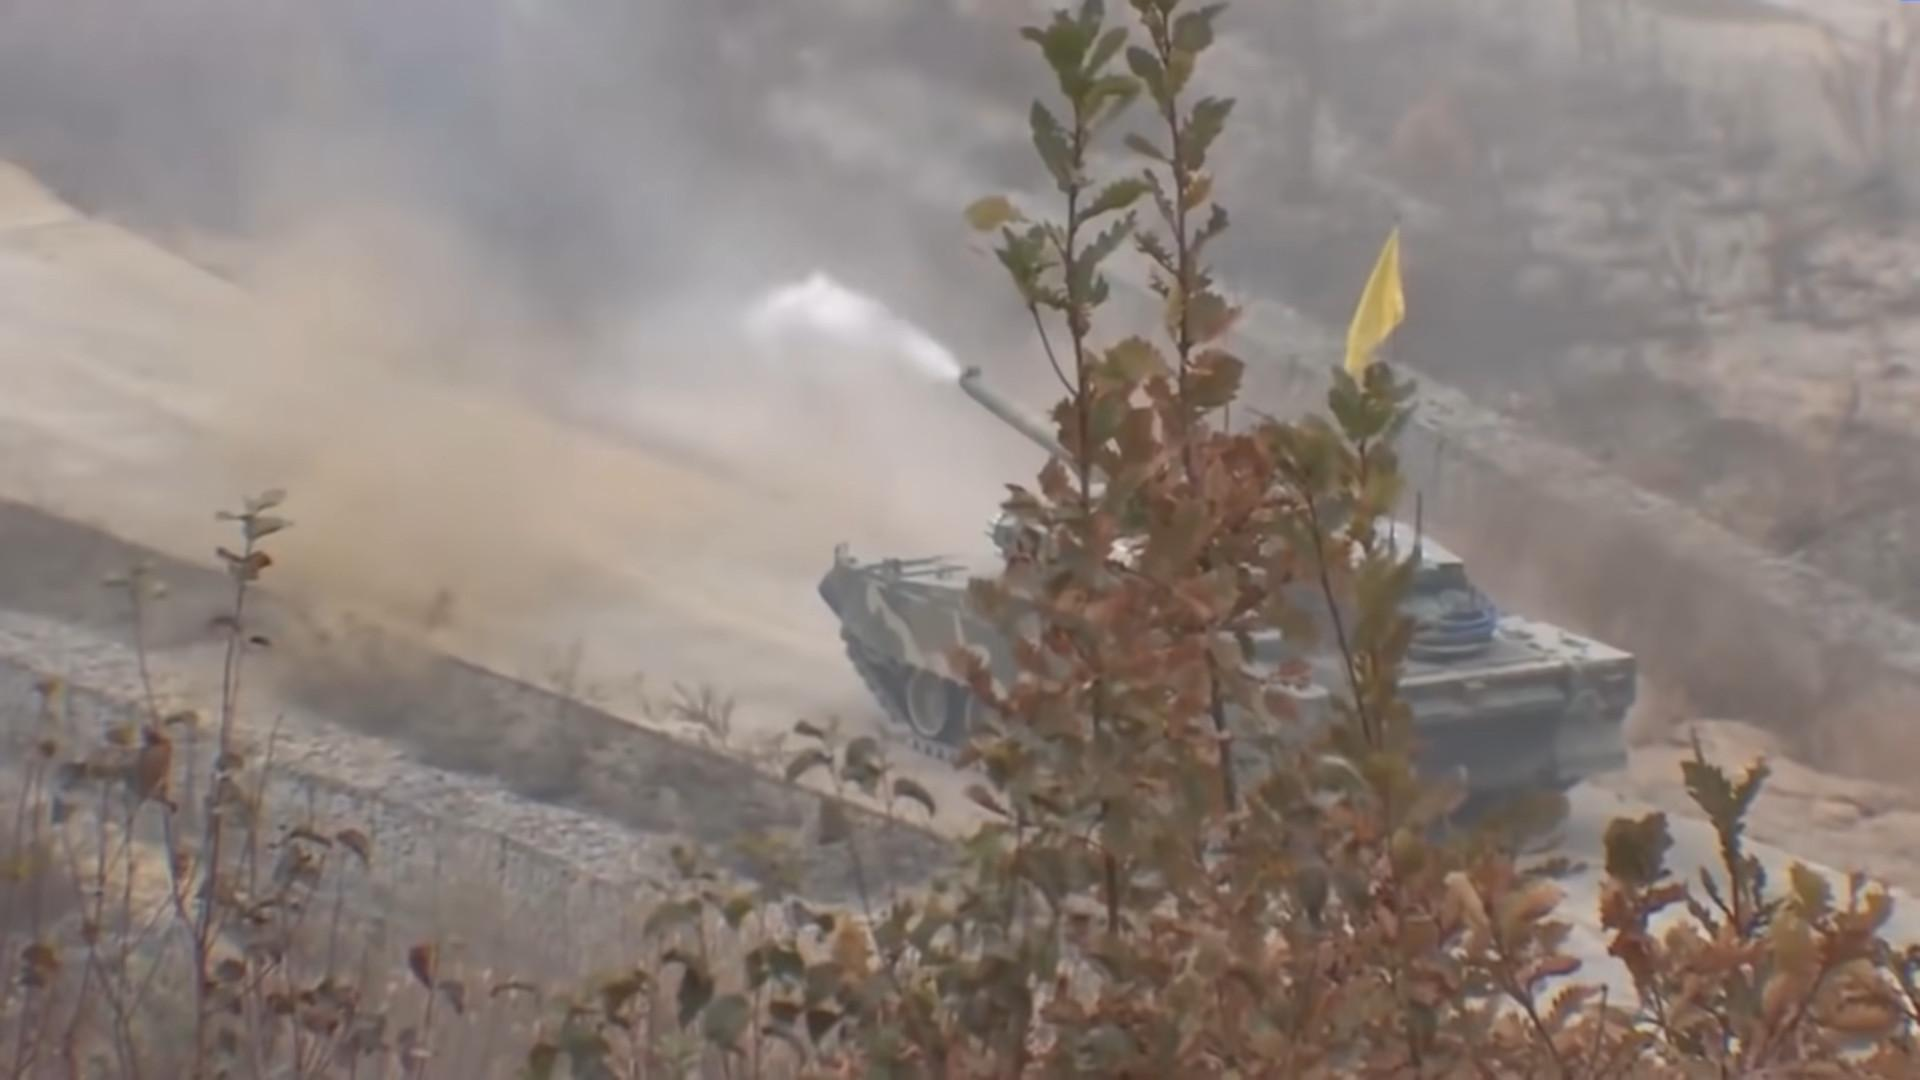tank: (824, 369, 1639, 855)
